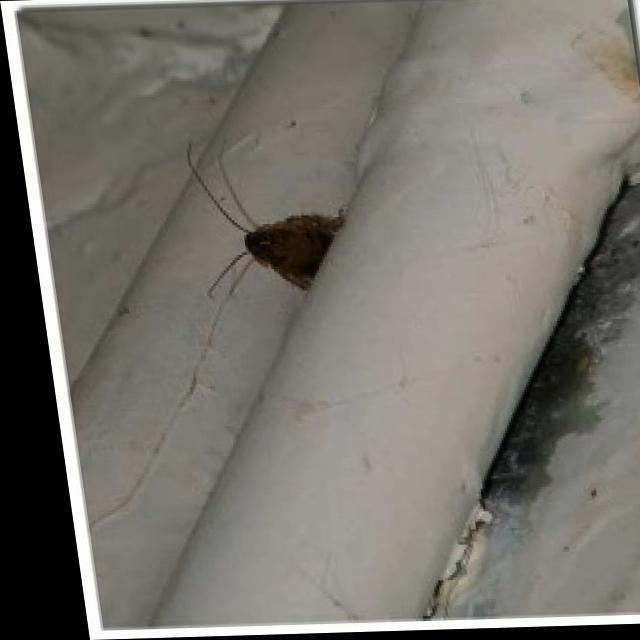cockroach: (191, 162, 368, 324)
